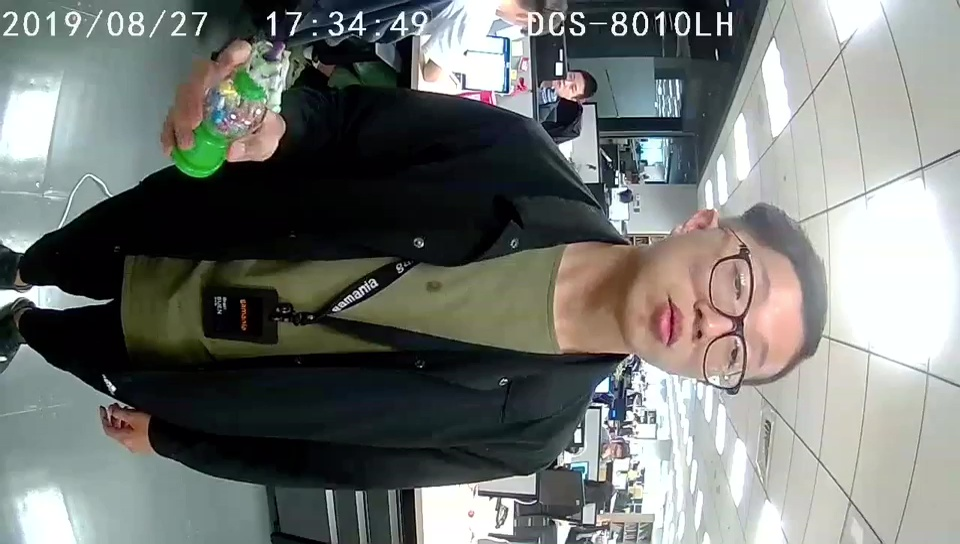buzz: (171, 39, 293, 181)
